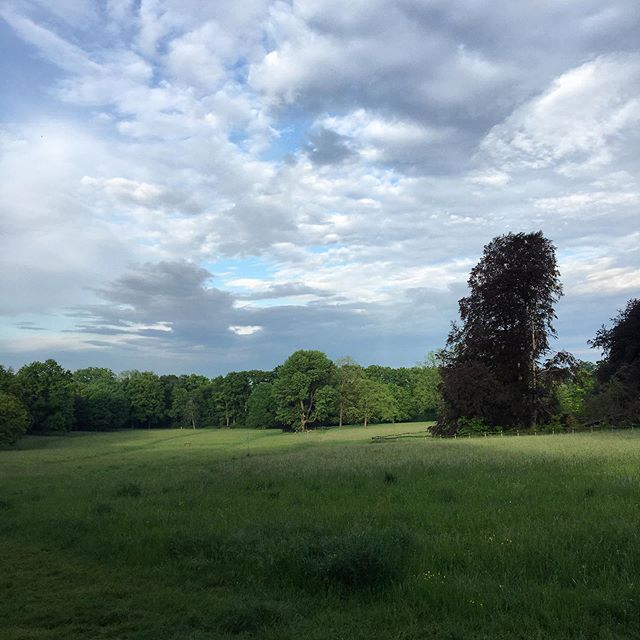grass: (14, 437, 640, 640)
sky: (1, 1, 625, 349)
tree: (435, 230, 566, 428), (273, 353, 338, 435)
vegetation: (1, 371, 640, 439)
